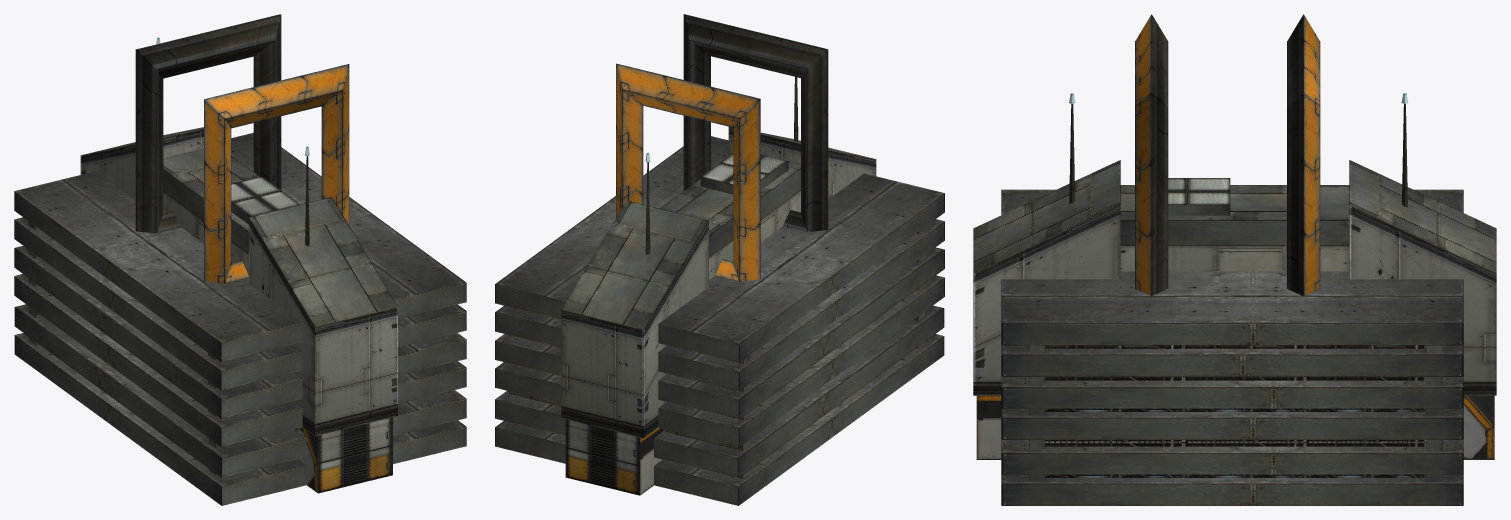
Rendered from recycling.obj.
The picture shows the model from 3 angles, left to right: view 1: azimuth 30°, elevation 25°; view 2: azimuth 150°, elevation 25°; view 3: azimuth 270°, elevation 25°; orthographic projection. The views are drawn at different scales.
Parts seen in each view (by area): view 1: armory; view 2: armory; view 3: armory.
Boxes of the visible parts, x1=… form: armory: x1=14, y1=14, x2=466, y2=505; armory: x1=495, y1=14, x2=944, y2=505; armory: x1=973, y1=14, x2=1496, y2=505.
Size of the model in its own units: 18.81 by 25.28 by 31.09.
Materials: 1 (1 with a texture image).
